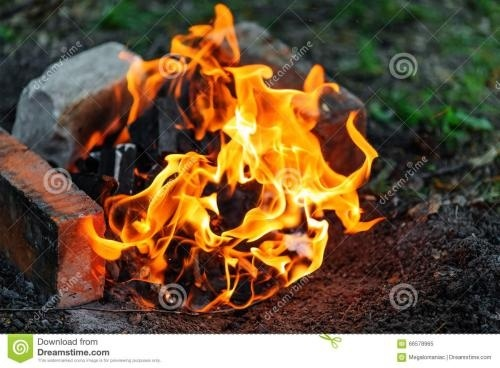fire: (89, 17, 388, 306)
